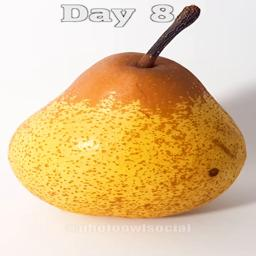Pear Semirotten: (9, 7, 252, 224)
